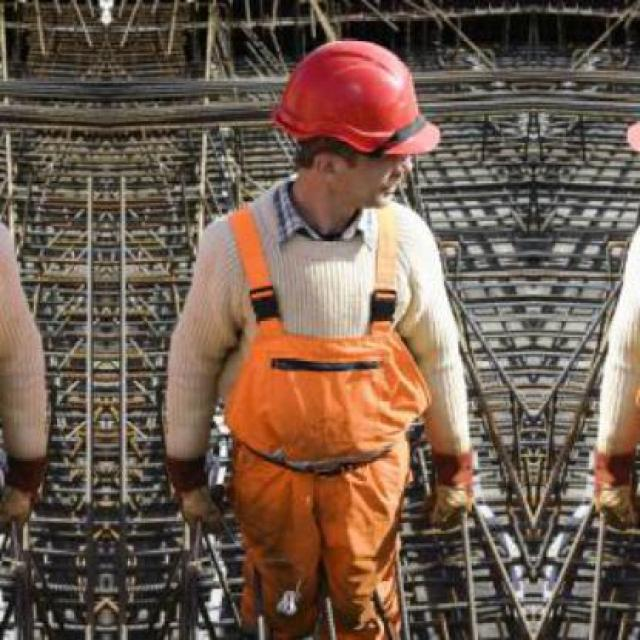helmet: (255, 29, 440, 217)
